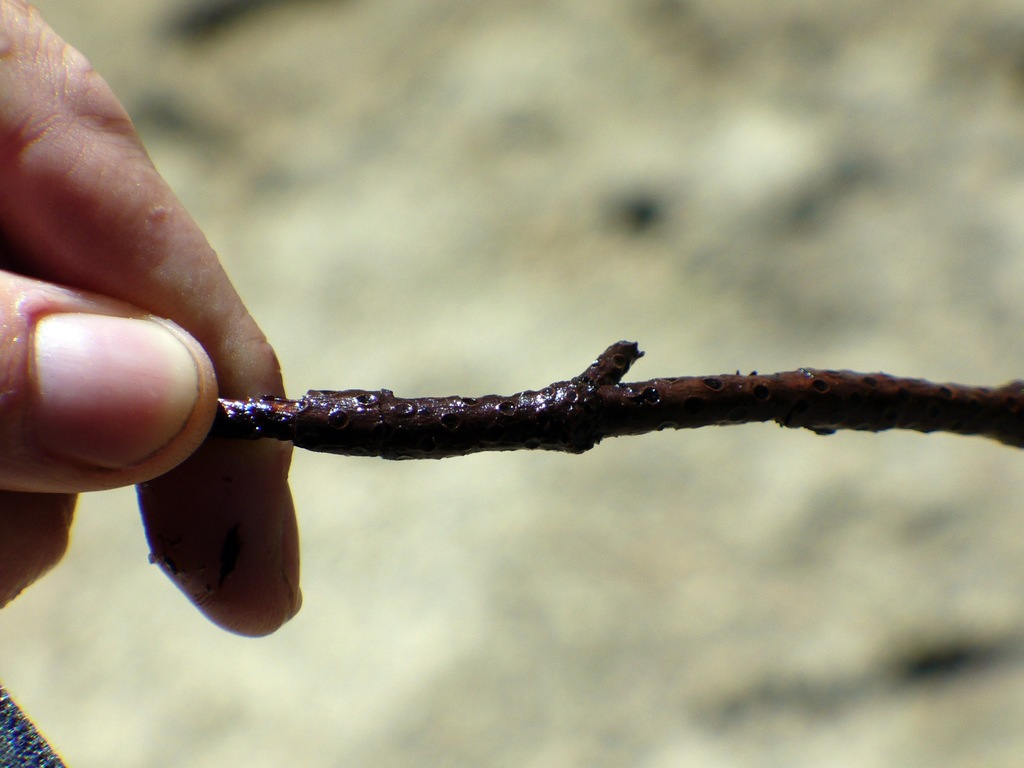Human_hand: (0, 0, 303, 638)
